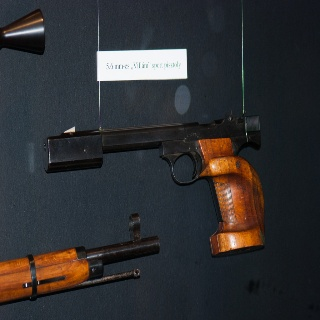pistol: (42, 110, 273, 258)
